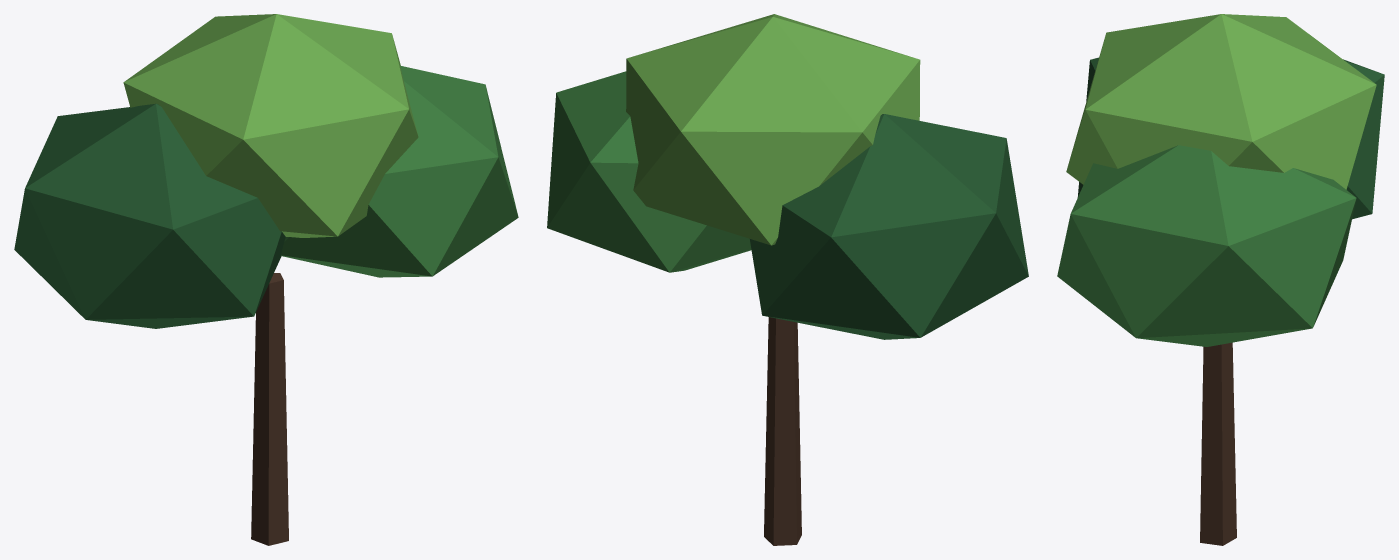
Rendered from tree_oak_far.glb.
3 views of the same model, side by side, from view 1: azimuth 30°, elevation 25°; view 2: azimuth 150°, elevation 25°; view 3: azimuth 270°, elevation 25° (orthographic).
Visible parts, largest first — view 1: tree_oak_far; view 2: tree_oak_far; view 3: tree_oak_far.
Boxes of the visible parts, bbox=[...] form: tree_oak_far: bbox=[14, 14, 518, 545]; tree_oak_far: bbox=[547, 14, 1028, 545]; tree_oak_far: bbox=[1057, 14, 1384, 545].
Bounding box in the file's own units: 10.86 × 12 × 6.75.
Materials: 1 (1 with a texture image).
